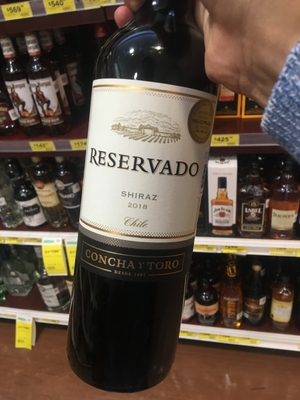reservado shiraz: (66, 20, 217, 400)
